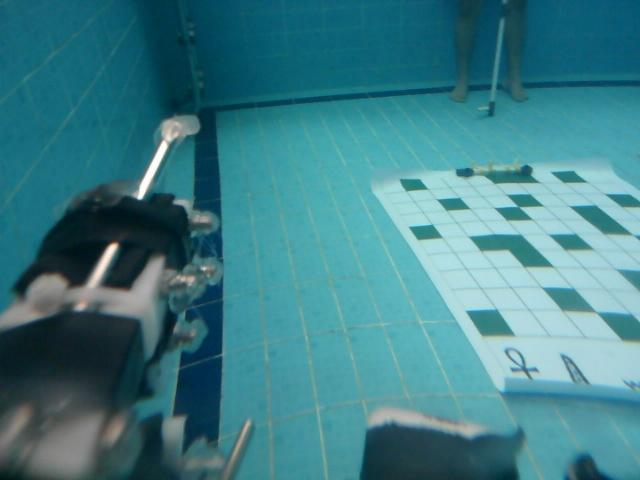Ankh: (503, 344, 538, 382)
Reed: (557, 351, 594, 385)
